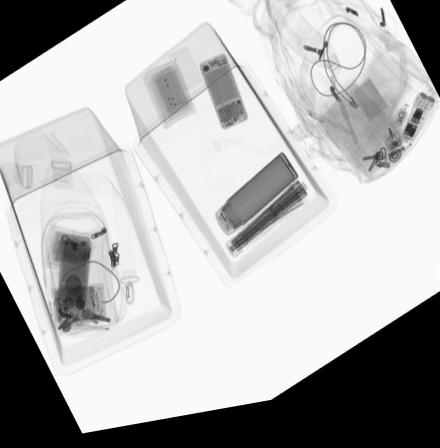Lighter: (85, 286, 99, 311)
